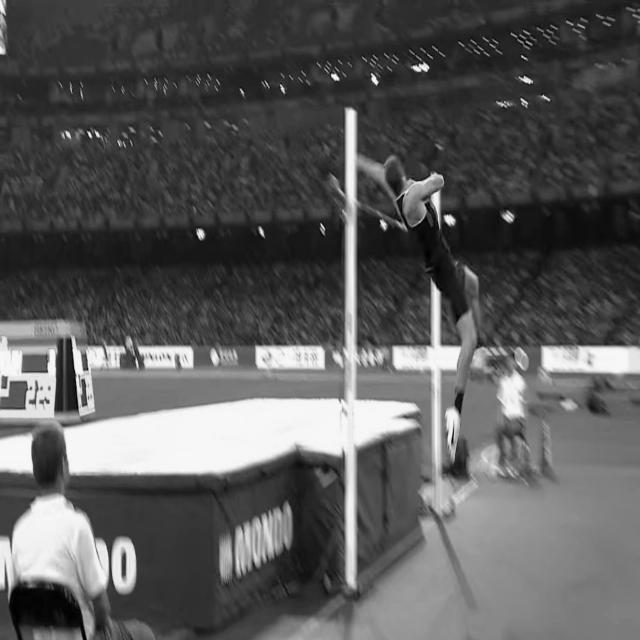jump: (356, 155, 481, 462)
